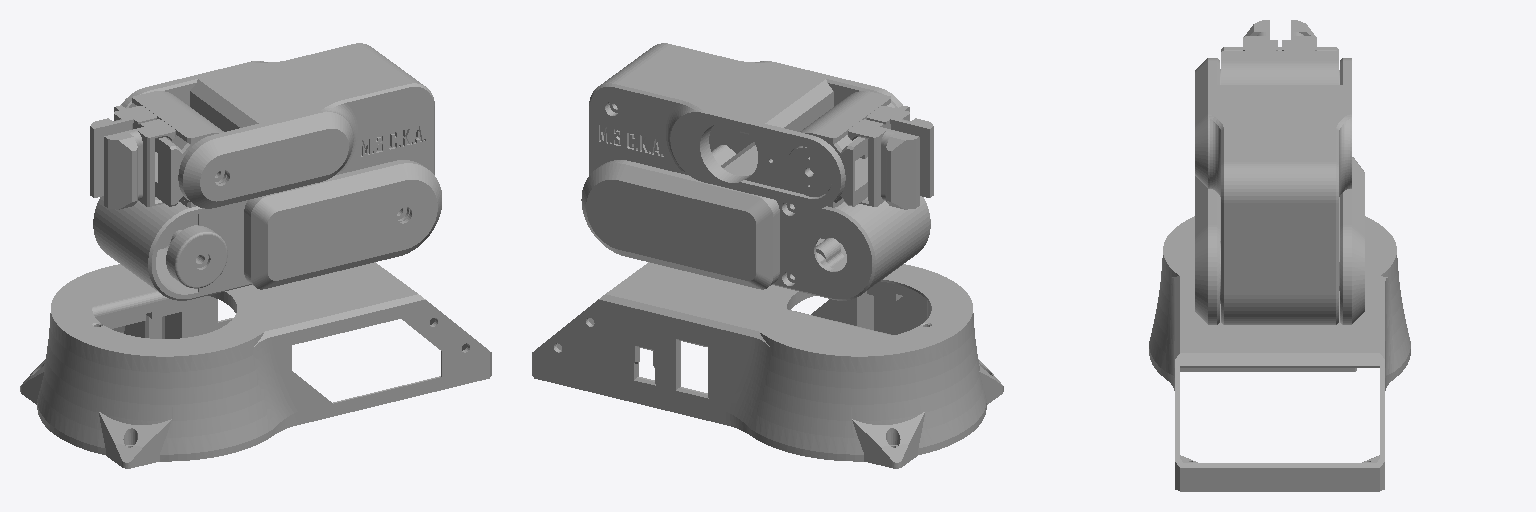
URDF robot description (URDF):
<?xml version="1.0" ?>
<!-- =================================================================================== -->
<!-- |    This document was autogenerated by xacro from URDF.xacro                     | -->
<!-- |    EDITING THIS FILE BY HAND IS NOT RECOMMENDED                                 | -->
<!-- =================================================================================== -->
<robot name="URDF">
  <material name="silver">
    <color rgba="0.700 0.700 0.700 1.000"/>
  </material>
  <transmission name="Revolute_1_tran">
    <type>transmission_interface/SimpleTransmission</type>
    <joint name="Revolute_1">
      <hardwareInterface>hardware_interface/EffortJointInterface</hardwareInterface>
    </joint>
    <actuator name="Revolute_1_actr">
      <hardwareInterface>hardware_interface/EffortJointInterface</hardwareInterface>
      <mechanicalReduction>1</mechanicalReduction>
    </actuator>
  </transmission>
  <transmission name="Revolute_2_tran">
    <type>transmission_interface/SimpleTransmission</type>
    <joint name="Revolute_2">
      <hardwareInterface>hardware_interface/EffortJointInterface</hardwareInterface>
    </joint>
    <actuator name="Revolute_2_actr">
      <hardwareInterface>hardware_interface/EffortJointInterface</hardwareInterface>
      <mechanicalReduction>1</mechanicalReduction>
    </actuator>
  </transmission>
  <transmission name="Revolute_3_tran">
    <type>transmission_interface/SimpleTransmission</type>
    <joint name="Revolute_3">
      <hardwareInterface>hardware_interface/EffortJointInterface</hardwareInterface>
    </joint>
    <actuator name="Revolute_3_actr">
      <hardwareInterface>hardware_interface/EffortJointInterface</hardwareInterface>
      <mechanicalReduction>1</mechanicalReduction>
    </actuator>
  </transmission>
  <transmission name="Revolute_4_tran">
    <type>transmission_interface/SimpleTransmission</type>
    <joint name="Revolute_4">
      <hardwareInterface>hardware_interface/EffortJointInterface</hardwareInterface>
    </joint>
    <actuator name="Revolute_4_actr">
      <hardwareInterface>hardware_interface/EffortJointInterface</hardwareInterface>
      <mechanicalReduction>1</mechanicalReduction>
    </actuator>
  </transmission>
  <transmission name="Slider_5_tran">
    <type>transmission_interface/SimpleTransmission</type>
    <joint name="Slider_5">
      <hardwareInterface>hardware_interface/EffortJointInterface</hardwareInterface>
    </joint>
    <actuator name="Slider_5_actr">
      <hardwareInterface>hardware_interface/EffortJointInterface</hardwareInterface>
      <mechanicalReduction>1</mechanicalReduction>
    </actuator>
  </transmission>
  <transmission name="Slider_6_tran">
    <type>transmission_interface/SimpleTransmission</type>
    <joint name="Slider_6">
      <hardwareInterface>hardware_interface/EffortJointInterface</hardwareInterface>
    </joint>
    <actuator name="Slider_6_actr">
      <hardwareInterface>hardware_interface/EffortJointInterface</hardwareInterface>
      <mechanicalReduction>1</mechanicalReduction>
    </actuator>
  </transmission>
  <gazebo>
    <plugin filename="libgazebo_ros_control.so" name="control"/>
  </gazebo>
  <gazebo reference="base_link">
    <material>Gazebo/Silver</material>
    <mu1>0.2</mu1>
    <mu2>0.2</mu2>
    <selfCollide>true</selfCollide>
    <gravity>true</gravity>
  </gazebo>
  <gazebo reference="JOINT1_v1_1">
    <material>Gazebo/Silver</material>
    <mu1>0.2</mu1>
    <mu2>0.2</mu2>
    <selfCollide>true</selfCollide>
  </gazebo>
  <gazebo reference="JOINT2_v1_1">
    <material>Gazebo/Silver</material>
    <mu1>0.2</mu1>
    <mu2>0.2</mu2>
    <selfCollide>true</selfCollide>
  </gazebo>
  <gazebo reference="JOINT3_v1_1">
    <material>Gazebo/Silver</material>
    <mu1>0.2</mu1>
    <mu2>0.2</mu2>
    <selfCollide>true</selfCollide>
  </gazebo>
  <gazebo reference="JOINT4_v1_1">
    <material>Gazebo/Silver</material>
    <mu1>0.2</mu1>
    <mu2>0.2</mu2>
    <selfCollide>true</selfCollide>
  </gazebo>
  <gazebo reference="left_jaw_v1_1">
    <material>Gazebo/Silver</material>
    <mu1>0.2</mu1>
    <mu2>0.2</mu2>
    <selfCollide>true</selfCollide>
  </gazebo>
  <gazebo reference="right_jaw_v1_1">
    <material>Gazebo/Silver</material>
    <mu1>0.2</mu1>
    <mu2>0.2</mu2>
    <selfCollide>true</selfCollide>
  </gazebo>
  <link name="base_link">
    <inertial>
      <origin rpy="0 0 0" xyz="0.015383407578683417 0.001784568400188029 0.027310424563411515"/>
      <mass value="0.9096816380238157"/>
      <inertia ixx="0.001044" ixy="-6.7e-05" ixz="-8.7e-05" iyy="0.001908" iyz="-1.7e-05" izz="0.002592"/>
    </inertial>
    <visual>
      <origin rpy="0 0 0" xyz="0 0 0"/>
      <geometry>
        <mesh filename="package://URDF_description/meshes/base_link.stl" scale="0.001 0.001 0.001"/>
      </geometry>
      <material name="silver"/>
    </visual>
    <collision>
      <origin rpy="0 0 0" xyz="0 0 0"/>
      <geometry>
        <mesh filename="package://URDF_description/meshes/base_link.stl" scale="0.001 0.001 0.001"/>
      </geometry>
    </collision>
  </link>
  <link name="JOINT1_v1_1">
    <inertial>
      <origin rpy="0 0 0" xyz="0.0006187257393876559 0.002218911748643823 0.013844723512104036"/>
      <mass value="0.43372533375582556"/>
      <inertia ixx="0.000362" ixy="1e-06" ixz="1e-06" iyy="0.000261" iyz="-9e-06" izz="0.000475"/>
    </inertial>
    <visual>
      <origin rpy="0 0 0" xyz="-0.0 -0.0 -0.043"/>
      <geometry>
        <mesh filename="package://URDF_description/meshes/JOINT1_v1_1.stl" scale="0.001 0.001 0.001"/>
      </geometry>
      <material name="silver"/>
    </visual>
    <collision>
      <origin rpy="0 0 0" xyz="-0.0 -0.0 -0.043"/>
      <geometry>
        <mesh filename="package://URDF_description/meshes/JOINT1_v1_1.stl" scale="0.001 0.001 0.001"/>
      </geometry>
    </collision>
  </link>
  <link name="JOINT2_v1_1">
    <inertial>
      <origin rpy="0 0 0" xyz="0.044247351794378734 -0.018025078758444557 -0.0003453175523793345"/>
      <mass value="0.5872350752757163"/>
      <inertia ixx="0.000404" ixy="-5.6e-05" ixz="4e-06" iyy="0.000702" iyz="-0.0" izz="0.000913"/>
    </inertial>
    <visual>
      <origin rpy="0 0 0" xyz="9e-06 -0.023 -0.0755"/>
      <geometry>
        <mesh filename="package://URDF_description/meshes/JOINT2_v1_1.stl" scale="0.001 0.001 0.001"/>
      </geometry>
      <material name="silver"/>
    </visual>
    <collision>
      <origin rpy="0 0 0" xyz="9e-06 -0.023 -0.0755"/>
      <geometry>
        <mesh filename="package://URDF_description/meshes/JOINT2_v1_1.stl" scale="0.001 0.001 0.001"/>
      </geometry>
    </collision>
  </link>
  <link name="JOINT3_v1_1">
    <inertial>
      <origin rpy="0 0 0" xyz="-0.022295142057999803 -0.024368276823764995 0.025631681377685928"/>
      <mass value="0.5028713990731921"/>
      <inertia ixx="0.000393" ixy="-3.1e-05" ixz="9.7e-05" iyy="0.000642" iyz="-6e-06" izz="0.000632"/>
    </inertial>
    <visual>
      <origin rpy="0 0 0" xyz="-0.089991 -0.02301 -0.0755"/>
      <geometry>
        <mesh filename="package://URDF_description/meshes/JOINT3_v1_1.stl" scale="0.001 0.001 0.001"/>
      </geometry>
      <material name="silver"/>
    </visual>
    <collision>
      <origin rpy="0 0 0" xyz="-0.089991 -0.02301 -0.0755"/>
      <geometry>
        <mesh filename="package://URDF_description/meshes/JOINT3_v1_1.stl" scale="0.001 0.001 0.001"/>
      </geometry>
    </collision>
  </link>
  <link name="JOINT4_v1_1">
    <inertial>
      <origin rpy="0 0 0" xyz="-0.0022534021040759205 -0.023791769129191773 -2.6291795823807362e-08"/>
      <mass value="0.20627022272536225"/>
      <inertia ixx="7e-05" ixy="-4e-06" ixz="0.0" iyy="3e-05" iyz="-0.0" izz="6.8e-05"/>
    </inertial>
    <visual>
      <origin rpy="0 0 0" xyz="-0.007288 -0.02302 -0.111"/>
      <geometry>
        <mesh filename="package://URDF_description/meshes/JOINT4_v1_1.stl" scale="0.001 0.001 0.001"/>
      </geometry>
      <material name="silver"/>
    </visual>
    <collision>
      <origin rpy="0 0 0" xyz="-0.007288 -0.02302 -0.111"/>
      <geometry>
        <mesh filename="package://URDF_description/meshes/JOINT4_v1_1.stl" scale="0.001 0.001 0.001"/>
      </geometry>
    </collision>
  </link>
  <link name="left_jaw_v1_1">
    <inertial>
      <origin rpy="0 0 0" xyz="-0.00806421962618316 0.014519522589371003 3.7969627442180354e-14"/>
      <mass value="0.03602585798484725"/>
      <inertia ixx="3e-06" ixy="0.0" ixz="0.0" iyy="5e-06" iyz="0.0" izz="2e-06"/>
    </inertial>
    <visual>
      <origin rpy="0 0 0" xyz="0.010212 0.02248 -0.111"/>
      <geometry>
        <mesh filename="package://URDF_description/meshes/left_jaw_v1_1.stl" scale="0.001 0.001 0.001"/>
      </geometry>
      <material name="silver"/>
    </visual>
    <collision>
      <origin rpy="0 0 0" xyz="0.010212 0.02248 -0.111"/>
      <geometry>
        <mesh filename="package://URDF_description/meshes/left_jaw_v1_1.stl" scale="0.001 0.001 0.001"/>
      </geometry>
    </collision>
  </link>
  <link name="right_jaw_v1_1">
    <inertial>
      <origin rpy="0 0 0" xyz="-0.008064219626183875 -0.014519522589366726 3.799738301779598e-14"/>
      <mass value="0.03602585798484718"/>
      <inertia ixx="3e-06" ixy="-0.0" ixz="-0.0" iyy="5e-06" iyz="0.0" izz="2e-06"/>
    </inertial>
    <visual>
      <origin rpy="0 0 0" xyz="0.010212 -0.02252 -0.111"/>
      <geometry>
        <mesh filename="package://URDF_description/meshes/right_jaw_v1_1.stl" scale="0.001 0.001 0.001"/>
      </geometry>
      <material name="silver"/>
    </visual>
    <collision>
      <origin rpy="0 0 0" xyz="0.010212 -0.02252 -0.111"/>
      <geometry>
        <mesh filename="package://URDF_description/meshes/right_jaw_v1_1.stl" scale="0.001 0.001 0.001"/>
      </geometry>
    </collision>
  </link>
  <joint name="Revolute_1" type="revolute">
    <origin rpy="0 0 0" xyz="0.0 0.0 0.043"/>
    <parent link="base_link"/>
    <child link="JOINT1_v1_1"/>
    <axis xyz="0.0 0.0 1.0"/>
    <limit effort="100" lower="-1.570796" upper="1.570796" velocity="100"/>
  </joint>
  <joint name="Revolute_2" type="revolute">
    <origin rpy="0 0 0" xyz="-9e-06 0.023 0.0325"/>
    <parent link="JOINT1_v1_1"/>
    <child link="JOINT2_v1_1"/>
    <axis xyz="0.0 1.0 0.0"/>
    <limit effort="100" lower="-3.141593" upper="0.0" velocity="100"/>
  </joint>
  <joint name="Revolute_3" type="revolute">
    <origin rpy="0 0 0" xyz="0.09 1e-05 0.0"/>
    <parent link="JOINT2_v1_1"/>
    <child link="JOINT3_v1_1"/>
    <axis xyz="-0.0 1.0 -0.0"/>
    <limit effort="100" lower="0.0" upper="3.141593" velocity="100"/>
  </joint>
  <joint name="Revolute_4" type="revolute">
    <origin rpy="0 0 0" xyz="-0.082703 1e-05 0.0355"/>
    <parent link="JOINT3_v1_1"/>
    <child link="JOINT4_v1_1"/>
    <axis xyz="-0.0 1.0 0.0"/>
    <limit effort="100" lower="-1.570796" upper="1.570796" velocity="100"/>
  </joint>
  <joint name="Slider_5" type="prismatic">
    <origin rpy="0 0 0" xyz="-0.0175 -0.0455 0.0"/>
    <parent link="JOINT4_v1_1"/>
    <child link="left_jaw_v1_1"/>
    <axis xyz="0.0 -1.0 0.0"/>
    <limit effort="100" lower="0.0" upper="0.005" velocity="100"/>
  </joint>
  <joint name="Slider_6" type="prismatic">
    <origin rpy="0 0 0" xyz="-0.0175 -0.0005 0.0"/>
    <parent link="JOINT4_v1_1"/>
    <child link="right_jaw_v1_1"/>
    <axis xyz="-0.0 1.0 -0.0"/>
    <limit effort="100" lower="0.0" upper="0.005" velocity="100"/>
  </joint>
</robot>

--- What the picture shows (computed from the rendered views, not written in the file) ---
3 views of the same robot in one strip: view 1: azimuth 30°, elevation 25°; view 2: azimuth 150°, elevation 25°; view 3: azimuth 270°, elevation 25° (orthographic).
Robot: URDF — 7 links, 6 joints (4 revolute, 2 prismatic); root link base_link; default pose: every joint at zero.
Links seen in each view (by area): view 1: base_link, JOINT3_v1_1, JOINT2_v1_1, left_jaw_v1_1, JOINT4_v1_1, right_jaw_v1_1; view 2: base_link, JOINT2_v1_1, JOINT3_v1_1, JOINT4_v1_1, right_jaw_v1_1, left_jaw_v1_1; view 3: JOINT3_v1_1, base_link, JOINT2_v1_1, JOINT4_v1_1, left_jaw_v1_1, right_jaw_v1_1.
Boxes of the visible links, x1=… form: base_link: x1=20, y1=262, x2=491, y2=468; JOINT3_v1_1: x1=121, y1=43, x2=434, y2=221; JOINT2_v1_1: x1=93, y1=160, x2=441, y2=300; left_jaw_v1_1: x1=104, y1=119, x2=175, y2=209; JOINT4_v1_1: x1=114, y1=91, x2=226, y2=207; right_jaw_v1_1: x1=90, y1=106, x2=156, y2=197; base_link: x1=532, y1=262, x2=1003, y2=468; JOINT2_v1_1: x1=581, y1=160, x2=930, y2=300; JOINT3_v1_1: x1=589, y1=43, x2=902, y2=208; JOINT4_v1_1: x1=786, y1=91, x2=909, y2=207; right_jaw_v1_1: x1=848, y1=119, x2=919, y2=209; left_jaw_v1_1: x1=867, y1=106, x2=933, y2=197; JOINT3_v1_1: x1=1195, y1=58, x2=1351, y2=324; base_link: x1=1149, y1=216, x2=1410, y2=491; JOINT2_v1_1: x1=1195, y1=157, x2=1364, y2=324; JOINT4_v1_1: x1=1220, y1=47, x2=1339, y2=84; left_jaw_v1_1: x1=1243, y1=20, x2=1277, y2=50; right_jaw_v1_1: x1=1282, y1=20, x2=1316, y2=50.
Bounding box of the posed robot: 0.176 × 0.1 × 0.126 m (x, y, z).
6 mesh visuals loaded from 7 distinct referenced files (6 binary STL); not drawn: 1 (reference not matched to a file when rendering).